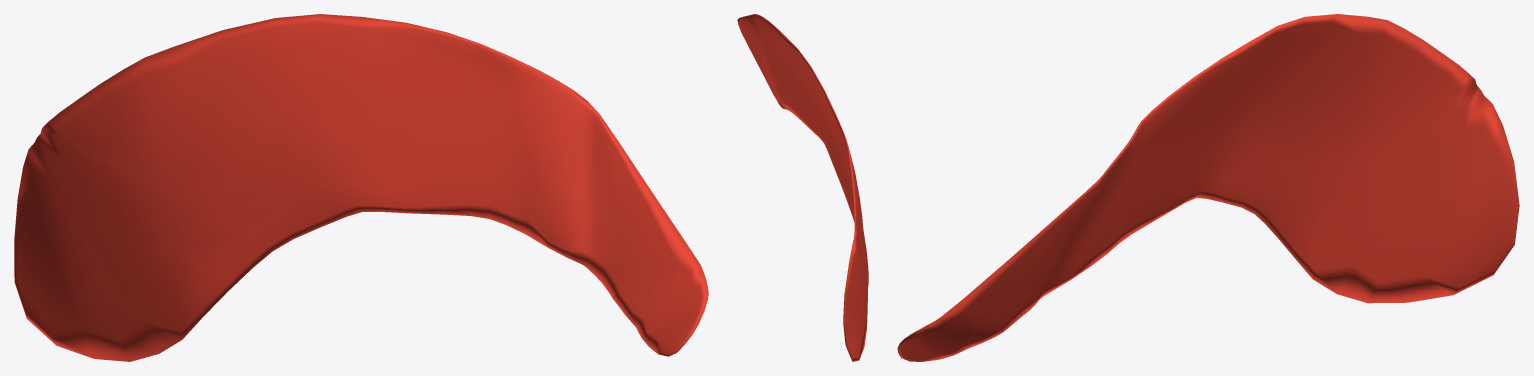
Rendered from Gluteus_medius_muscle-Iliac_insertion.l_Generated_Mesh_From_X3D.glb.
3 views of the same model, side by side, from view 1: azimuth 30°, elevation 25°; view 2: azimuth 150°, elevation 25°; view 3: azimuth 270°, elevation 25° (orthographic). The views are drawn at different scales.
Visible parts, largest first — view 1: Gluteus_medius_muscle-Iliac_insertion.l_Generated_Mesh_From_; view 2: Gluteus_medius_muscle-Iliac_insertion.l_Generated_Mesh_From_; view 3: Gluteus_medius_muscle-Iliac_insertion.l_Generated_Mesh_From_.
Part boxes in pixels (left/top/right/bottom): Gluteus_medius_muscle-Iliac_insertion.l_Generated_Mesh_From_: left=14, top=14, right=708, bottom=361; Gluteus_medius_muscle-Iliac_insertion.l_Generated_Mesh_From_: left=737, top=14, right=868, bottom=361; Gluteus_medius_muscle-Iliac_insertion.l_Generated_Mesh_From_: left=897, top=14, right=1519, bottom=361.
Size of the model in its own units: 0.0662 by 0.0552 by 0.0872.
